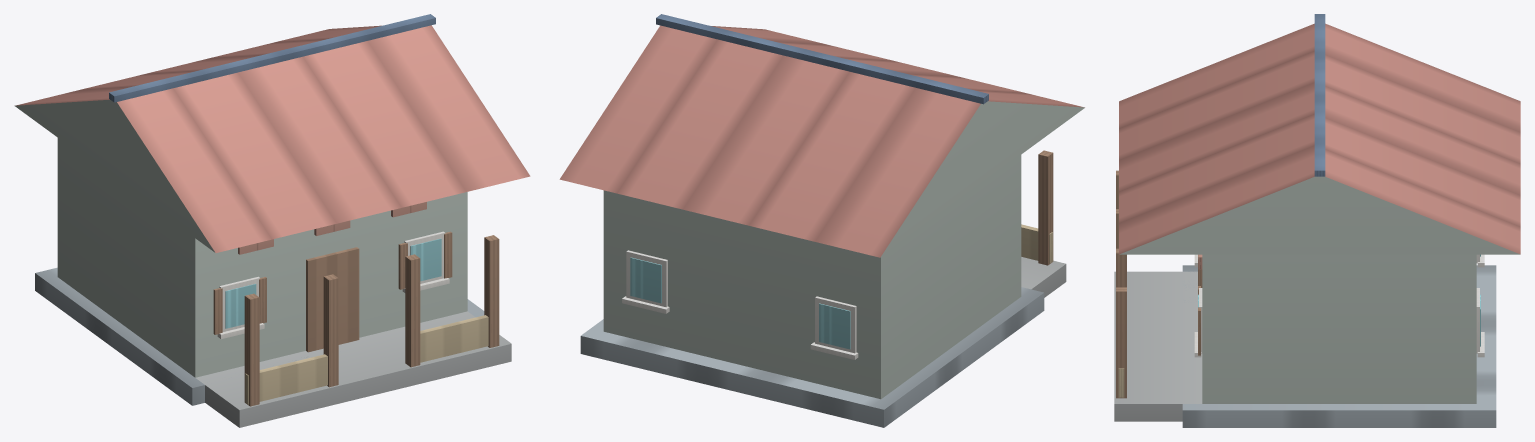
File: kampung_home.glb
3 views of the same model, side by side, from view 1: azimuth 30°, elevation 25°; view 2: azimuth 150°, elevation 25°; view 3: azimuth 270°, elevation 25° (orthographic). The views are drawn at different scales.
Visible parts, largest first — view 1: kampung_home; view 2: kampung_home; view 3: kampung_home.
Boxes of the visible parts, x1,y1,x2,y2 form: kampung_home: [14, 14, 530, 427]; kampung_home: [559, 14, 1084, 427]; kampung_home: [1114, 14, 1520, 427].
Bounding box in the file's own units: 7.56 × 5.93 × 8.3.
Materials: 1 (1 with a texture image).
